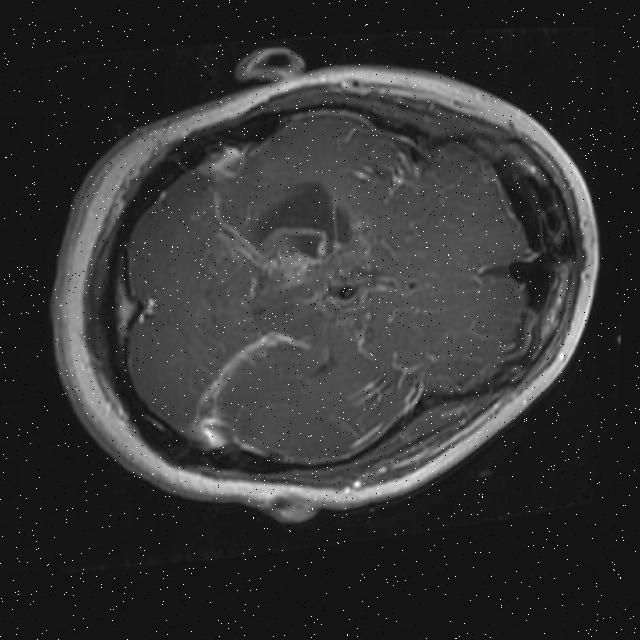Glioma: (253, 222, 330, 292)
